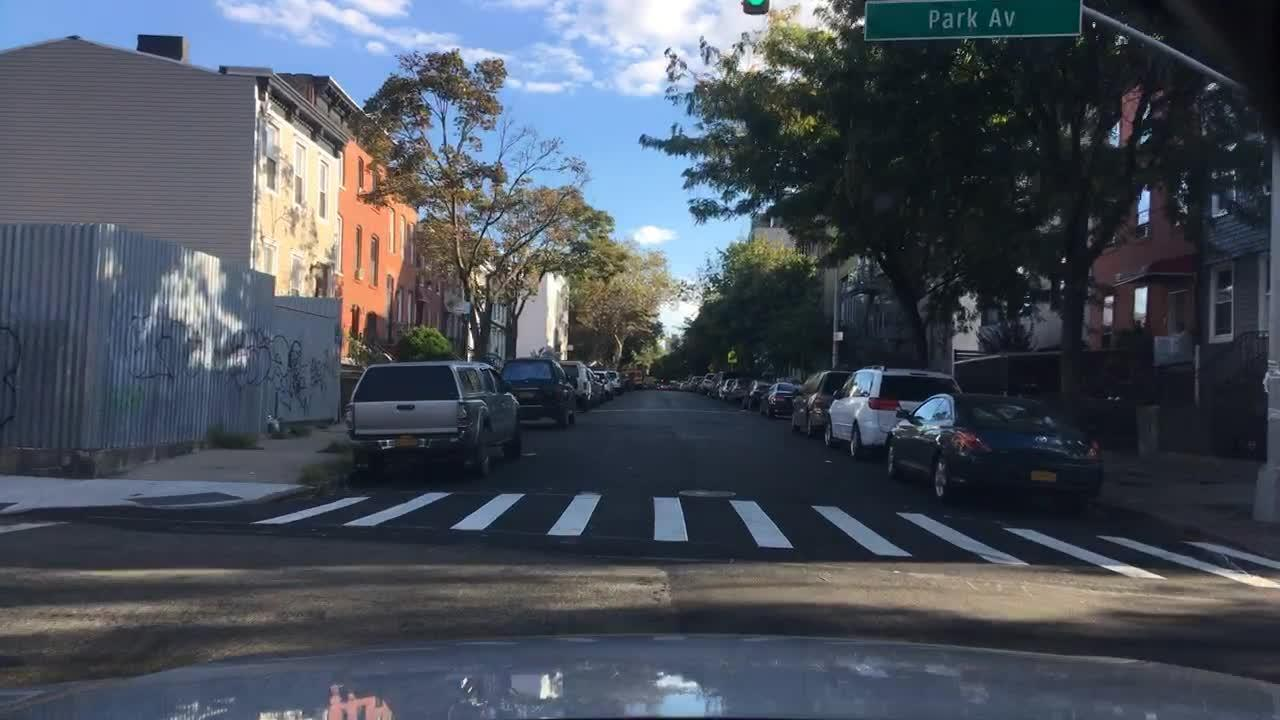Infiniti: (1032, 431, 1054, 443)
